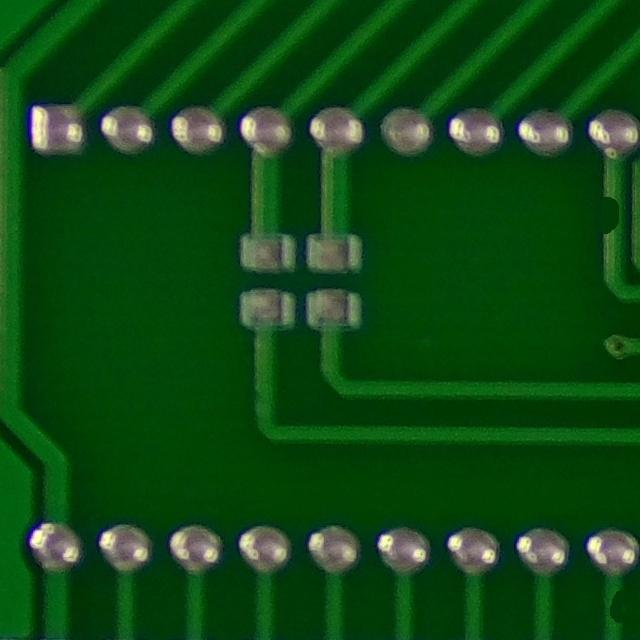mouse_bite: (587, 177, 631, 244), (593, 578, 632, 628)
